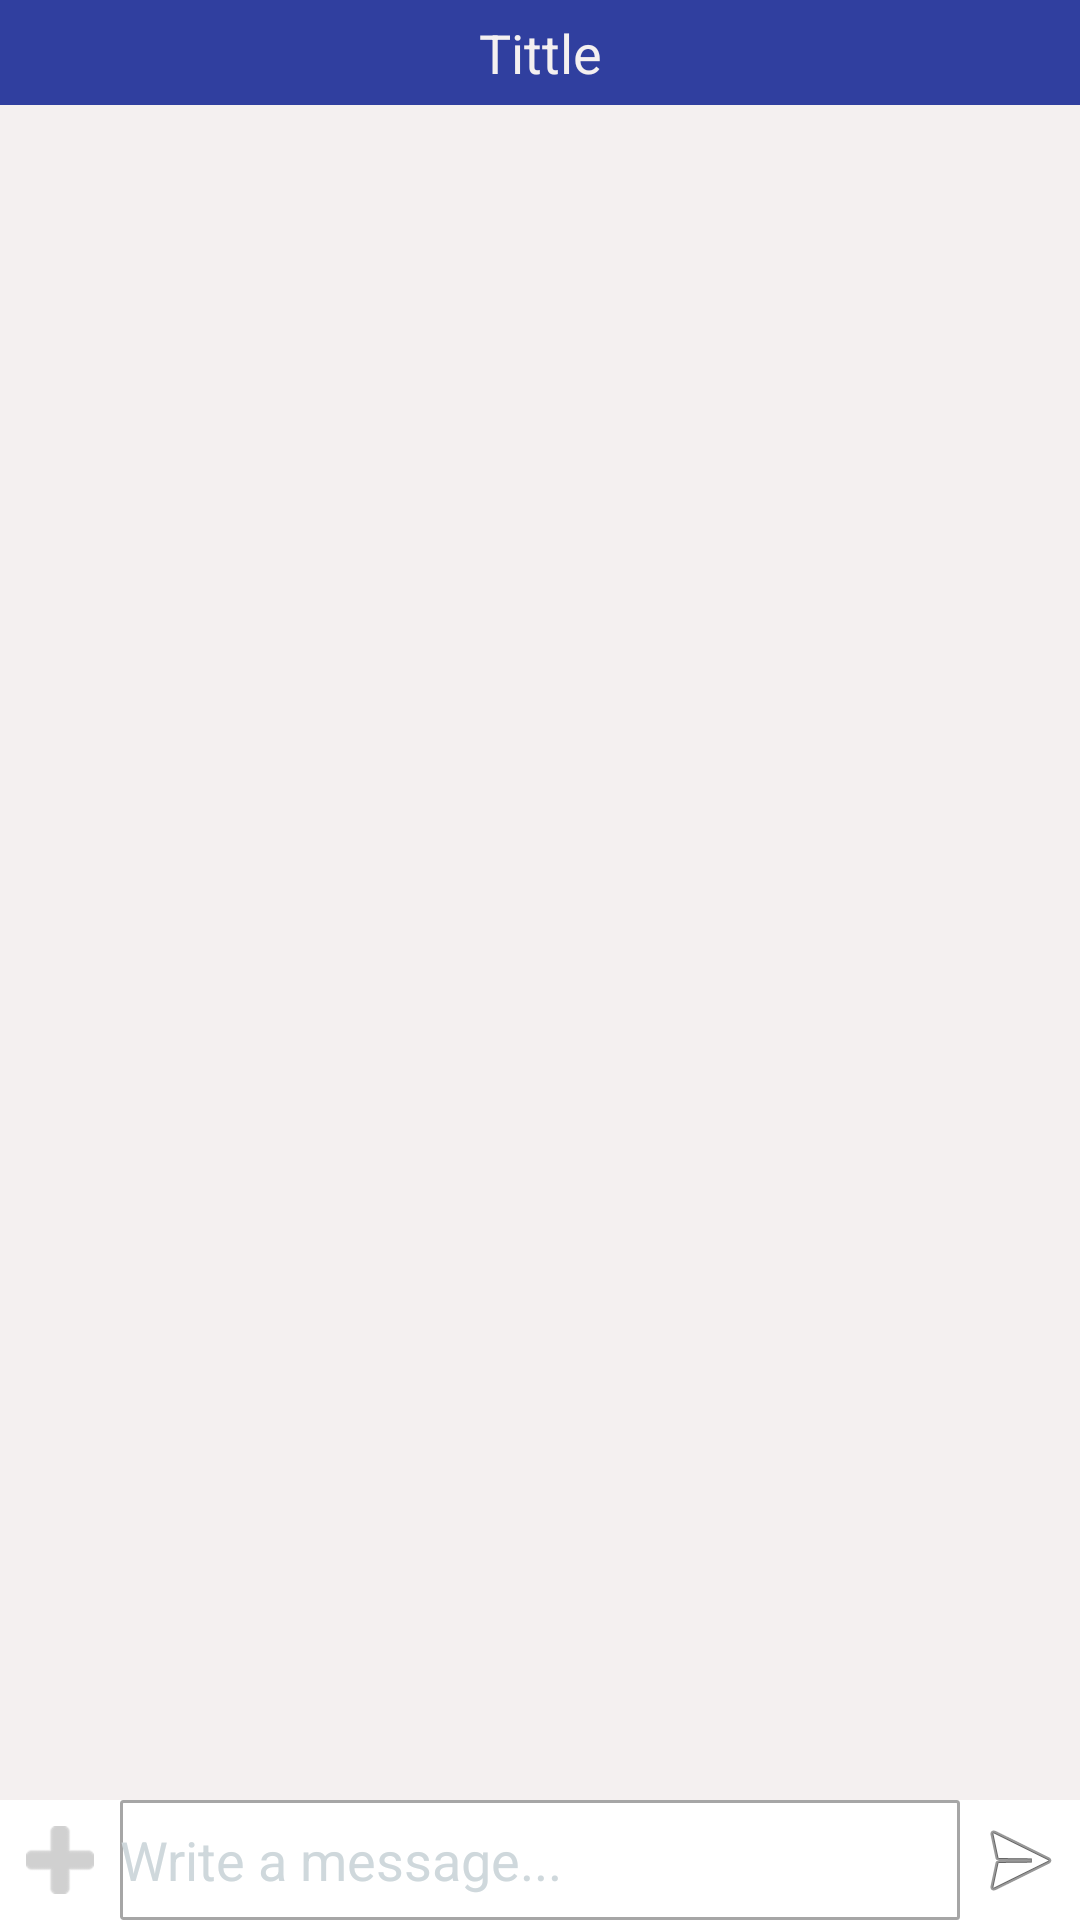

Screen size 1080 x 1920. Icon name, then its box in pixels as bbox=(x1, y1, x2, y2):
send: bbox=(960, 1800, 1080, 1920)
